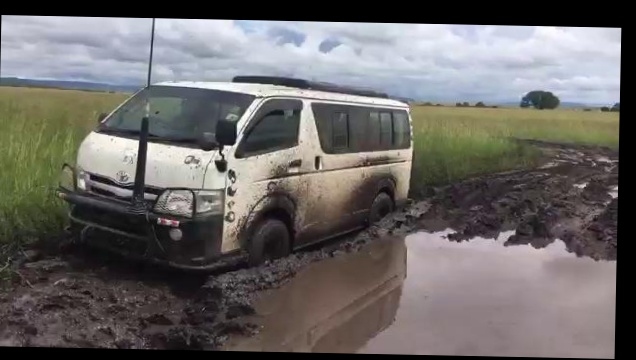van: (57, 68, 420, 278)
